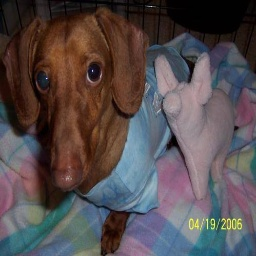dog: (2, 9, 206, 253)
